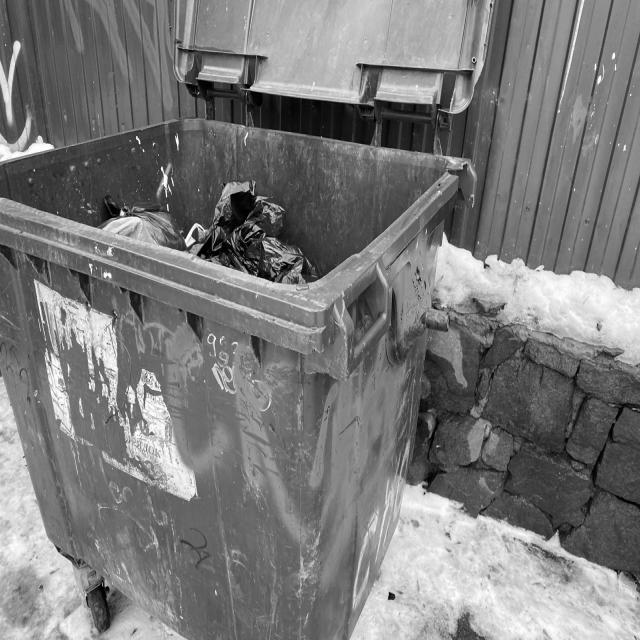Trashcan: (0, 14, 506, 639)
